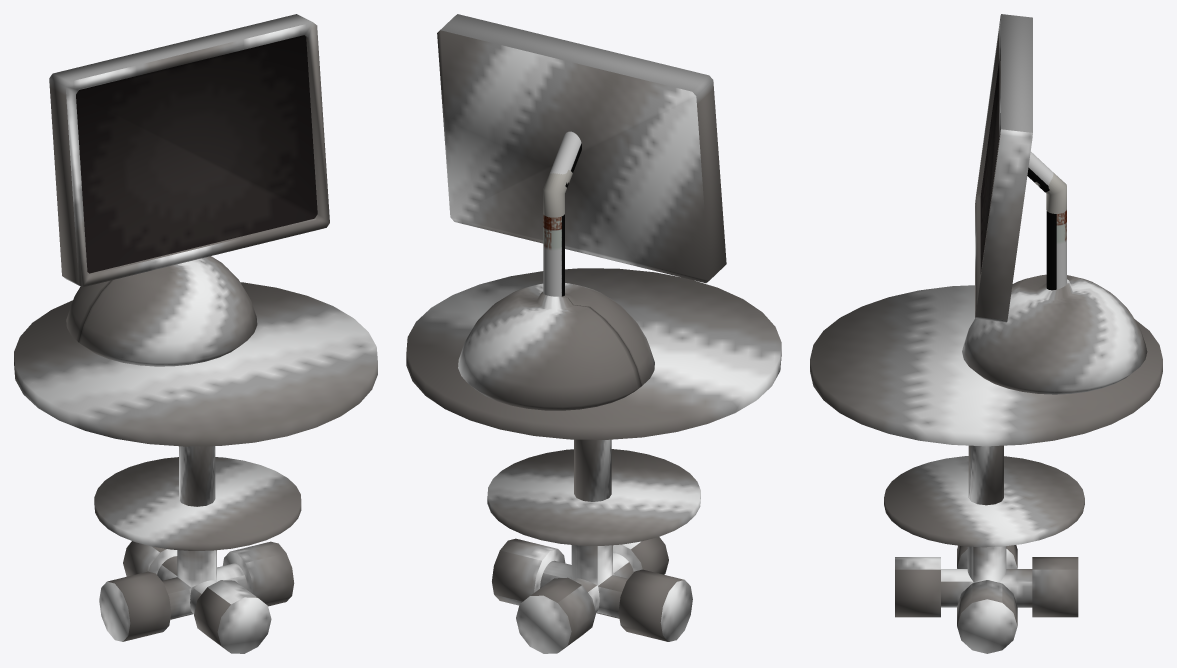
File: MonitorCart.fbx
3 views of the same model, side by side, from view 1: azimuth 30°, elevation 25°; view 2: azimuth 150°, elevation 25°; view 3: azimuth 270°, elevation 25° (orthographic). The views are drawn at different scales.
Parts seen in each view (by area): view 1: RoundTable, Screen, Base; view 2: RoundTable, Screen, Base, Post; view 3: RoundTable, Base, Screen, Post.
Part boxes in pixels (x1=…): RoundTable: x1=14, y1=282, x2=377, y2=653; Screen: x1=49, y1=14, x2=329, y2=287; Base: x1=66, y1=256, x2=257, y2=366; RoundTable: x1=406, y1=268, x2=781, y2=653; Screen: x1=437, y1=14, x2=726, y2=283; Base: x1=458, y1=283, x2=654, y2=410; Post: x1=543, y1=131, x2=581, y2=296; RoundTable: x1=810, y1=285, x2=1162, y2=653; Base: x1=962, y1=274, x2=1147, y2=394; Screen: x1=975, y1=14, x2=1032, y2=322; Post: x1=1027, y1=151, x2=1066, y2=290.
Bounding box in the file's own units: 99.88 × 170 × 99.88.
